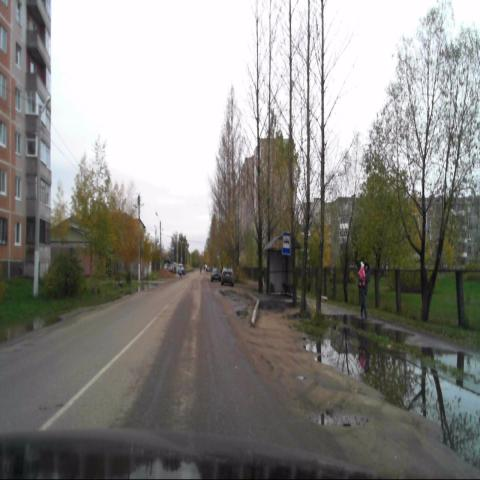5_16: (282, 231, 291, 255)
